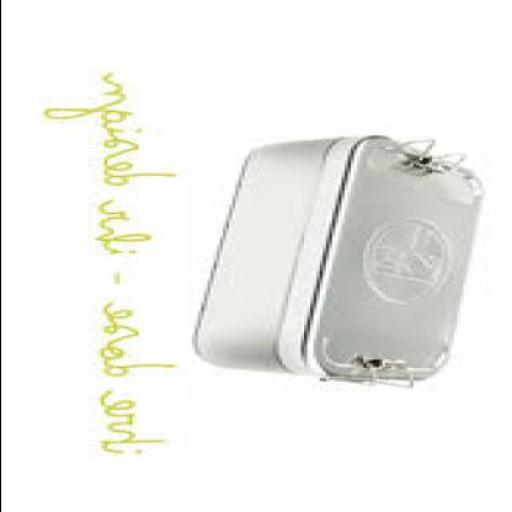metal: (196, 138, 484, 388)
